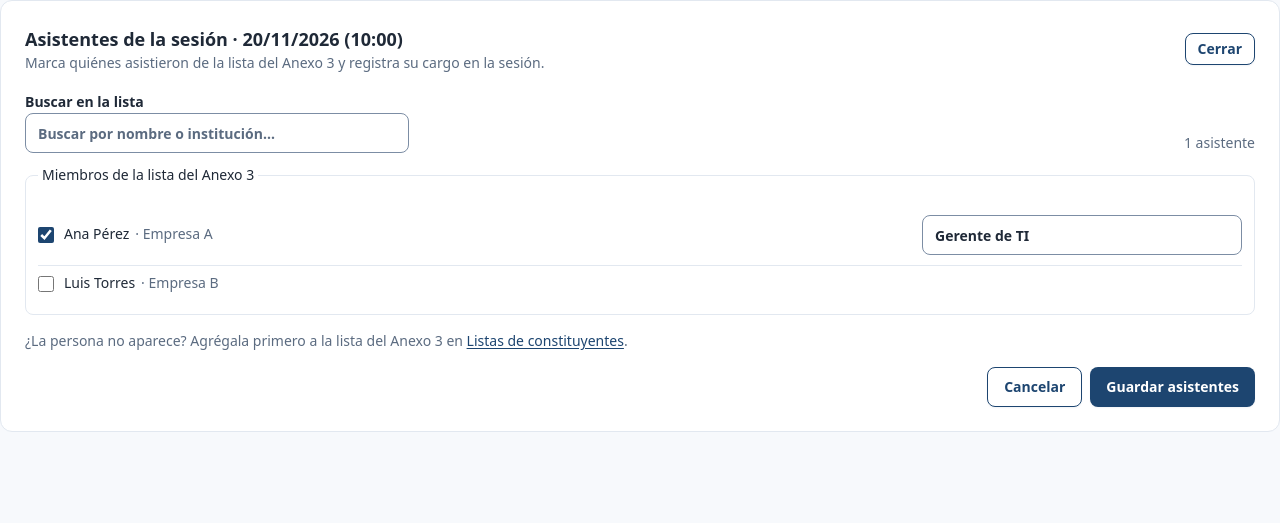
Test case: SessionAttendeesPanel (HU-033, T-033-14) › shows the server error
Click the button "Guardar asistentes" at (1173, 387), box [1090, 367, 1255, 407]
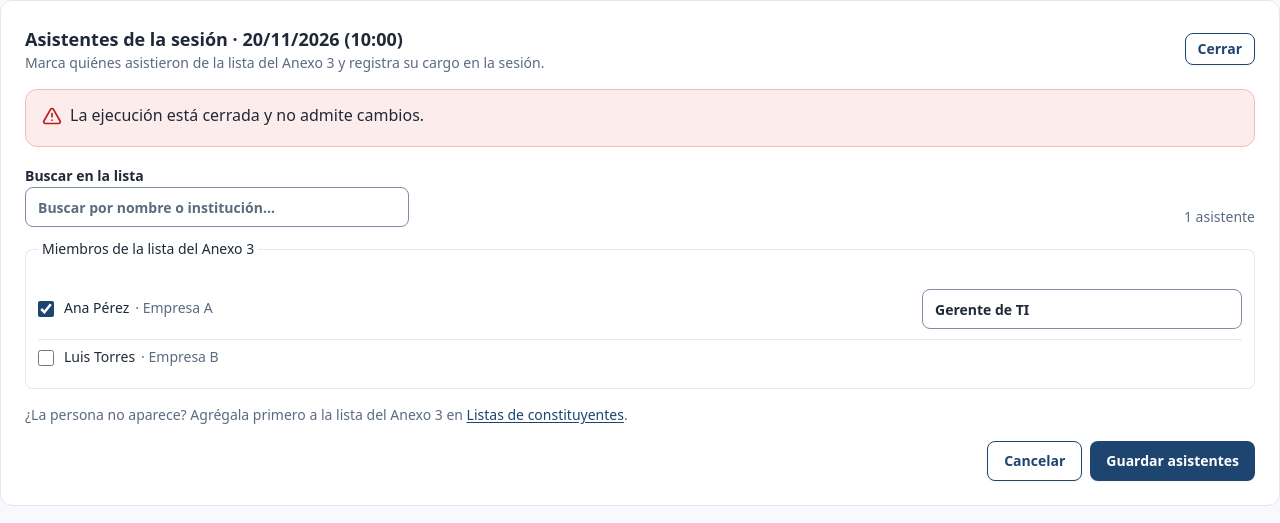
Now the message reads "La ejecución está cerrada y no admite cambios.", box [70, 104, 424, 126]
